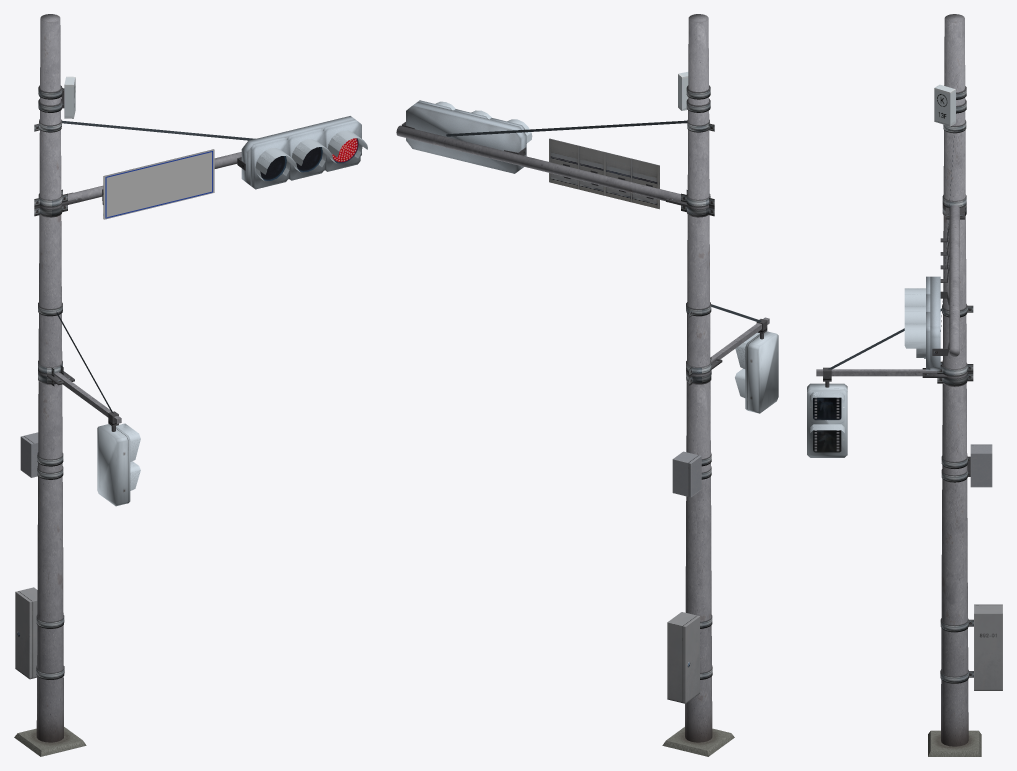
The model's file is Traffic_light_Auto_1_Ped_town.fbx.
3 renders of one model, left to right at view 1: azimuth 30°, elevation 25°; view 2: azimuth 150°, elevation 25°; view 3: azimuth 270°, elevation 25°, orthographic.
Visible parts, largest first — view 1: 00_pillar, 30_Auto_light, 50_town_name, 40_Ped_light, 80_box_L, 85_box_S, 86_box_SS, 20_Auto_latch_bar, 10_Auto_bar; view 2: 00_pillar, 30_Auto_light, 40_Ped_light, 50_town_name, 10_Auto_bar, 80_box_L, 85_box_S, 86_box_SS, 20_Auto_latch_bar; view 3: 00_pillar, 40_Ped_light, 30_Auto_light, 80_box_L, 10_Auto_bar, 85_box_S, 86_box_SS, 72_light_Ped_green, 70_light_Ped_red, 20_Auto_latch_bar.
Part boxes in pixels (x1,y1,x2,y2): 00_pillar: (14, 14, 86, 756); 30_Auto_light: (62, 116, 367, 189); 50_town_name: (102, 149, 214, 219); 40_Ped_light: (38, 302, 140, 506); 80_box_L: (15, 587, 64, 679); 85_box_S: (20, 432, 63, 479); 86_box_SS: (38, 76, 75, 118); 20_Auto_latch_bar: (34, 189, 82, 217); 10_Auto_bar: (68, 152, 241, 201); 00_pillar: (662, 14, 734, 756); 30_Auto_light: (401, 100, 687, 173); 40_Ped_light: (686, 302, 778, 413); 50_town_name: (549, 138, 659, 209); 10_Auto_bar: (396, 125, 680, 201); 80_box_L: (667, 612, 712, 703); 85_box_S: (672, 451, 711, 497); 86_box_SS: (678, 72, 710, 112); 20_Auto_latch_bar: (666, 190, 714, 217); 00_pillar: (928, 14, 981, 756); 40_Ped_light: (807, 304, 973, 457); 30_Auto_light: (904, 131, 954, 370); 80_box_L: (940, 604, 1002, 690); 10_Auto_bar: (949, 205, 959, 356); 85_box_S: (941, 444, 992, 487); 86_box_SS: (934, 84, 966, 126); 72_light_Ped_green: (813, 430, 841, 452); 70_light_Ped_red: (813, 397, 841, 419); 20_Auto_latch_bar: (942, 195, 966, 219).
Size of the model in its own units: 3.51 by 7.5 by 1.83.
